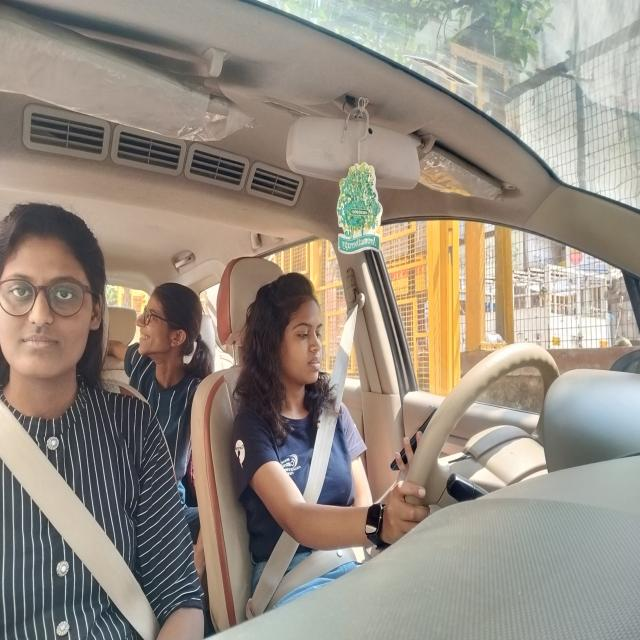mobile: (389, 403, 439, 472)
person: (2, 201, 112, 412), (239, 275, 329, 401), (134, 277, 206, 363)
